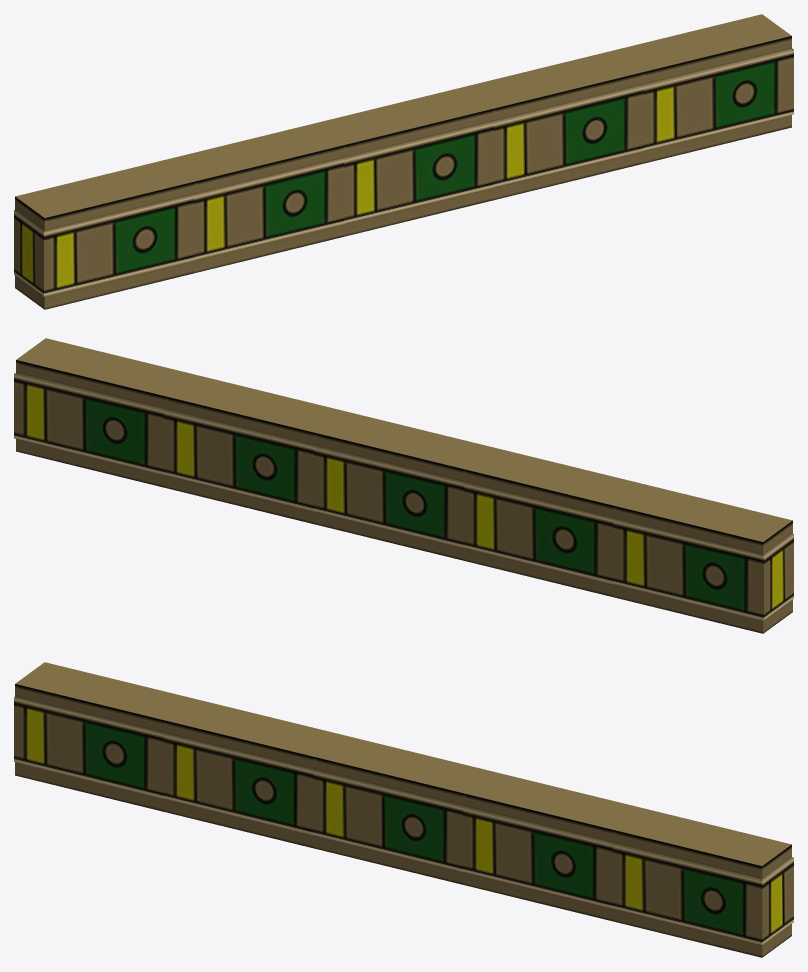
Rendered from egypt_border.gltf.
3 views of the same model, one above another, from view 1: azimuth 30°, elevation 25°; view 2: azimuth 150°, elevation 25°; view 3: azimuth 330°, elevation 25° (orthographic).
Parts seen in each view (by area): view 1: egypt_border2_glb; view 2: egypt_border2_glb; view 3: egypt_border2_glb.
Part boxes in pixels (x1,y1,x2,y2): egypt_border2_glb: (14, 14, 793, 309); egypt_border2_glb: (14, 338, 793, 633); egypt_border2_glb: (14, 662, 793, 957).
Size of what is drawn, in the model's own units: 4.04 by 0.4726 by 0.2949.
1 material, 1 textured.
